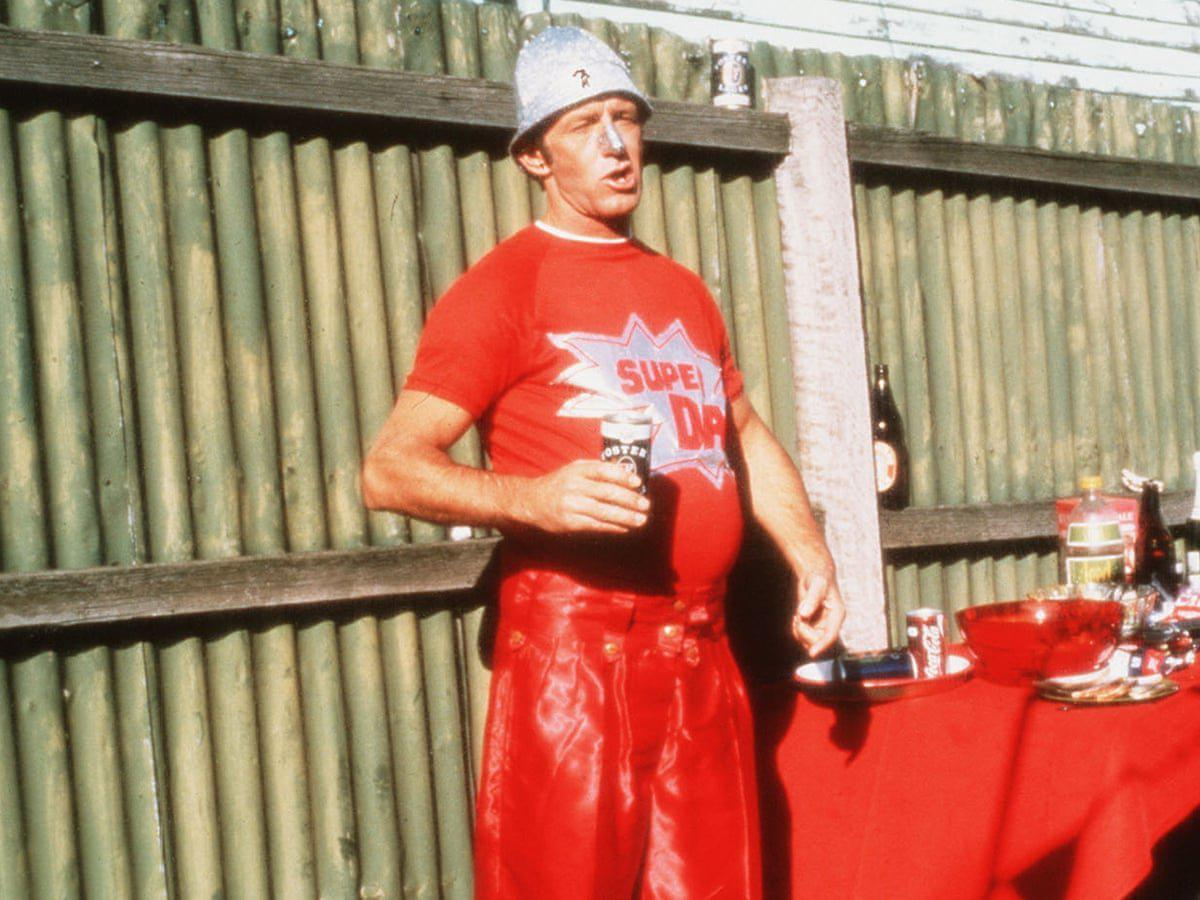Drunk: (567, 102, 641, 211)
